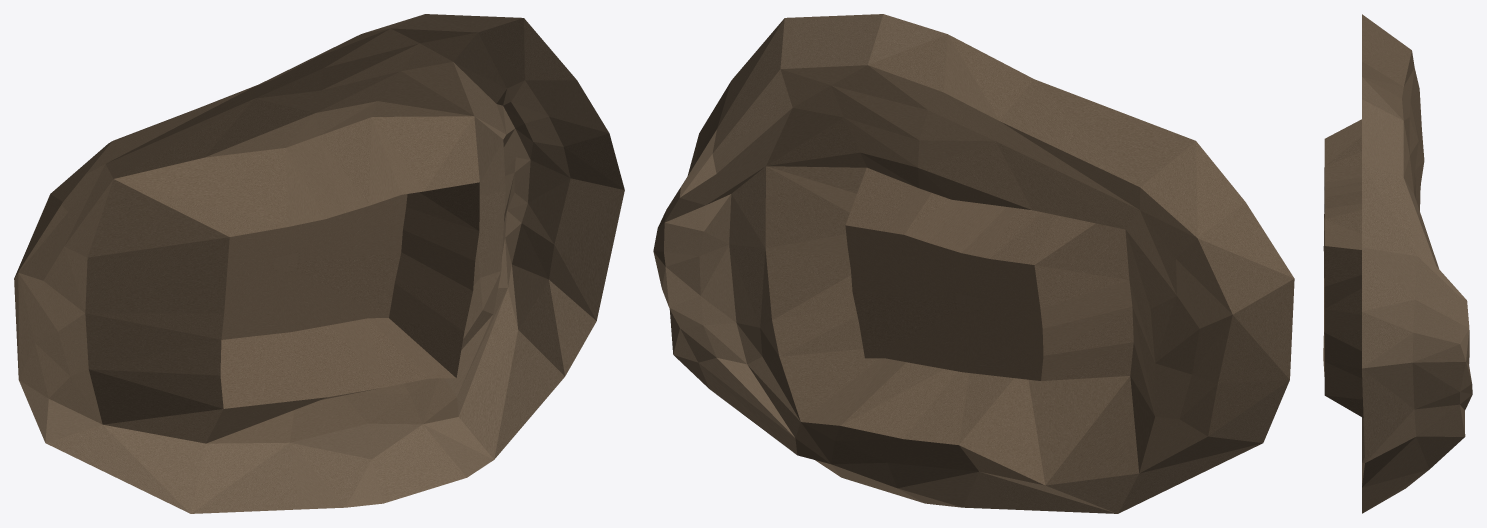
The model's file is desert_land_6.FBX.
The picture shows the model from 3 angles, left to right: view 1: azimuth 30°, elevation 25°; view 2: azimuth 150°, elevation 25°; view 3: azimuth 270°, elevation 25°; orthographic projection. The views are drawn at different scales.
Visible parts, largest first — view 1: Icosphere.009; view 2: Icosphere.009; view 3: Icosphere.009.
Part boxes in pixels (<box>): Icosphere.009: <box>14,14,624,513</box>; Icosphere.009: <box>653,14,1294,513</box>; Icosphere.009: <box>1323,14,1472,513</box>.
Bounding box in the file's own units: 3027 × 2271 × 768.
